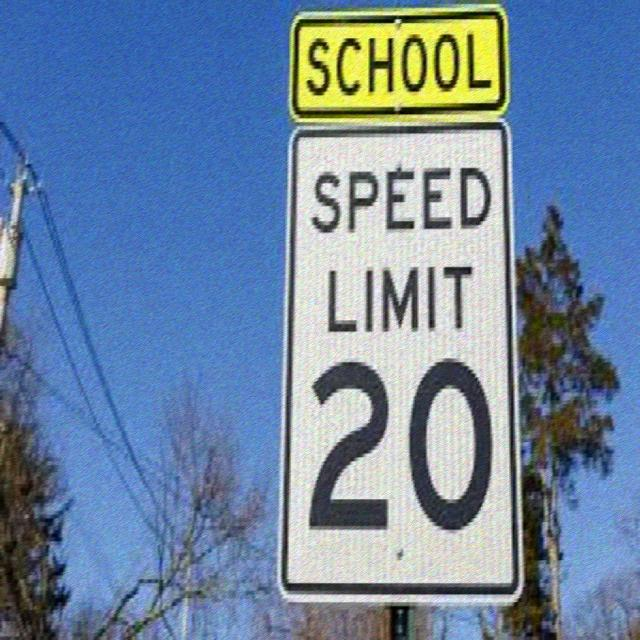speedLimit20: (283, 124, 522, 608)
